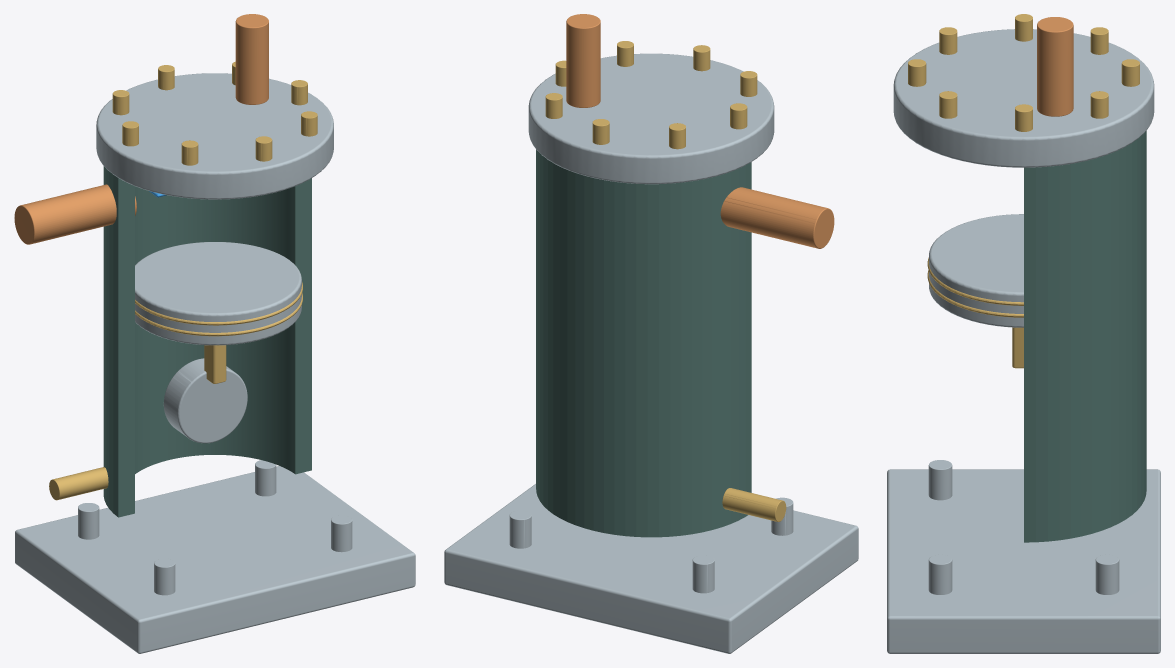
Rendered from verdichter.glb.
3 renders of one model, left to right at view 1: azimuth 30°, elevation 25°; view 2: azimuth 150°, elevation 25°; view 3: azimuth 270°, elevation 25°, orthographic. The views are drawn at different scales.
Parts seen in each view (by area): view 1: Grundplatte, Zylinder_Schnittgehaeuse, Zylinderkopf, Kolben, Kurbelwelle, Saugstutzen, Druckstutzen, Oelanschluss, Pleuel, Befestigungsschraube.001, Befestigungsschraube.003, Befestigungsschraube.002 (+3 smaller); view 2: Zylinder_Schnittgehaeuse, Grundplatte, Zylinderkopf, Saugstutzen, Druckstutzen, Oelanschluss, Befestigungsschraube, Befestigungsschraube.002; view 3: Zylinder_Schnittgehaeuse, Grundplatte, Zylinderkopf, Kolben, Druckstutzen, Befestigungsschraube.003, Befestigungsschraube, Befestigungsschraube.001, Kopfschraube.001, Kopfschraube.003, Kopfschraube.005, Kopfschraube.007 (+7 smaller).
Part boxes in pixels (bbox=[...]): Grundplatte: bbox=[15, 466, 415, 653]; Zylinder_Schnittgehaeuse: bbox=[103, 166, 311, 517]; Zylinderkopf: bbox=[96, 73, 333, 199]; Kolben: bbox=[135, 242, 301, 345]; Kurbelwelle: bbox=[163, 358, 247, 443]; Saugstutzen: bbox=[14, 184, 136, 244]; Druckstutzen: bbox=[235, 14, 268, 104]; Oelanschluss: bbox=[49, 467, 108, 500]; Pleuel: bbox=[204, 345, 226, 383]; Befestigungsschraube.001: bbox=[154, 558, 175, 595]; Befestigungsschraube.003: bbox=[331, 515, 352, 552]; Befestigungsschraube.002: bbox=[78, 503, 99, 539]; Zylinder_Schnittgehaeuse: bbox=[536, 149, 751, 537]; Grundplatte: bbox=[444, 484, 858, 653]; Zylinderkopf: bbox=[528, 53, 774, 184]; Saugstutzen: bbox=[720, 187, 834, 248]; Druckstutzen: bbox=[566, 14, 600, 107]; Oelanschluss: bbox=[722, 488, 786, 521]; Befestigungsschraube: bbox=[509, 510, 531, 548]; Befestigungsschraube.002: bbox=[692, 555, 714, 593]; Zylinder_Schnittgehaeuse: bbox=[1024, 130, 1146, 542]; Grundplatte: bbox=[887, 469, 1160, 653]; Zylinderkopf: bbox=[893, 29, 1154, 167]; Kolben: bbox=[929, 214, 1023, 327]; Druckstutzen: bbox=[1037, 17, 1073, 116]; Befestigungsschraube.003: bbox=[928, 554, 952, 594]; Befestigungsschraube: bbox=[1095, 554, 1119, 594]; Befestigungsschraube.001: bbox=[928, 460, 952, 500]; Kopfschraube.001: bbox=[1090, 91, 1108, 118]; Kopfschraube.003: bbox=[1090, 27, 1108, 54]; Kopfschraube.005: bbox=[939, 27, 957, 54]; Kopfschraube.007: bbox=[939, 91, 957, 118].
Size of the model in its own units: 1.55 by 2.47 by 1.05.
